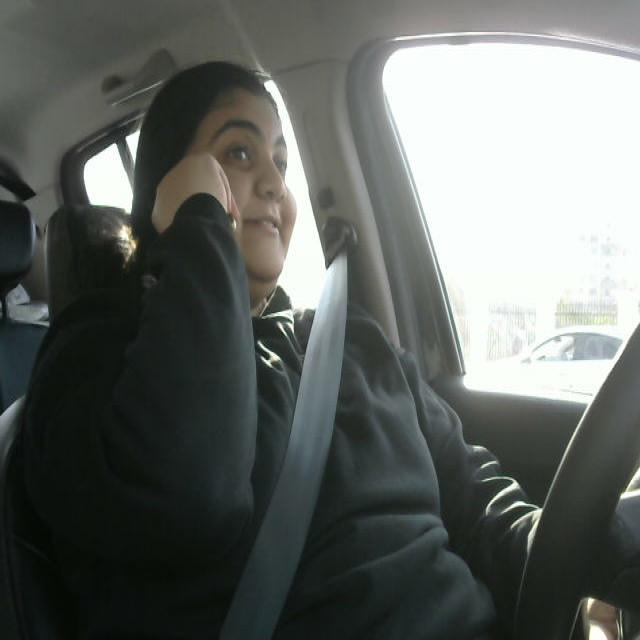mobile use: (145, 143, 245, 263)
